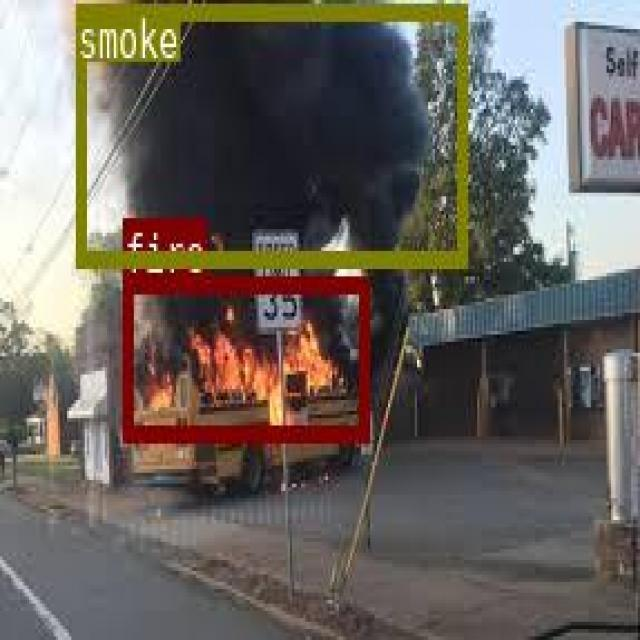fire: (122, 275, 368, 440)
smoke: (76, 1, 465, 265)
